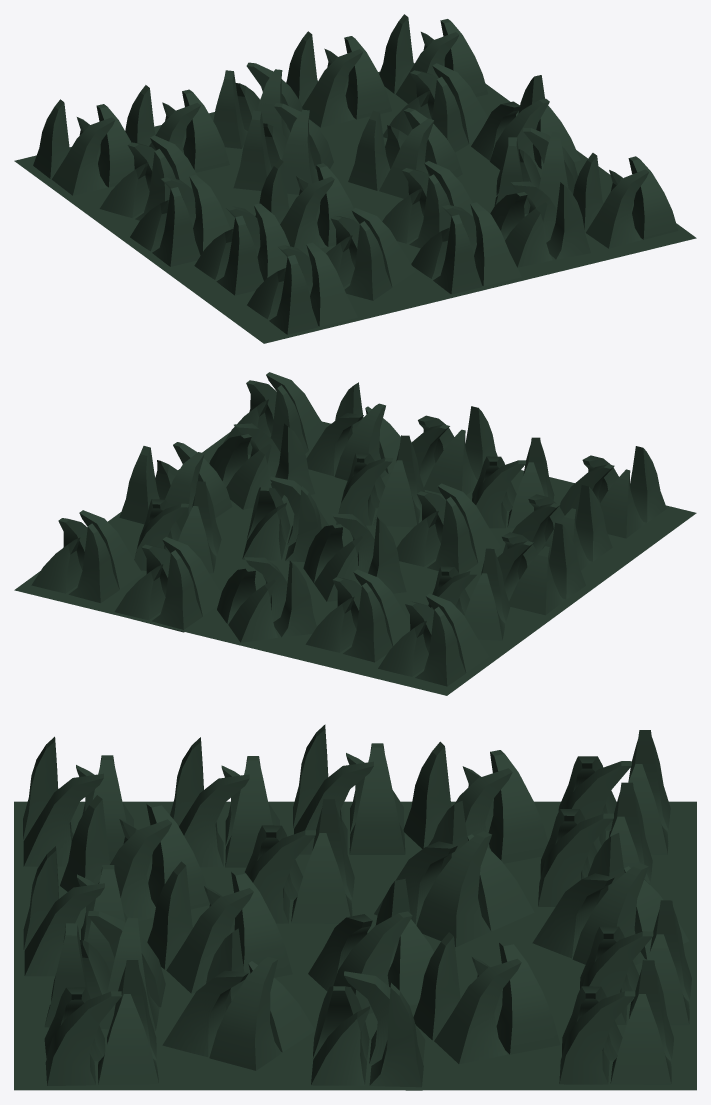
Rendered from Grass Only 1x1.fbx.
3 views of the same model, one above another, from view 1: azimuth 30°, elevation 25°; view 2: azimuth 150°, elevation 25°; view 3: azimuth 270°, elevation 25° (orthographic). The views are drawn at different scales.
Visible parts, largest first — view 1: polySurface102; view 2: polySurface102; view 3: polySurface102.
Part boxes in pixels (<box>): polySurface102: <box>14,14,696,343</box>; polySurface102: <box>14,372,696,695</box>; polySurface102: <box>14,724,696,1090</box>.
Size of the model in its own units: 74.42 by 12.86 by 74.42.
